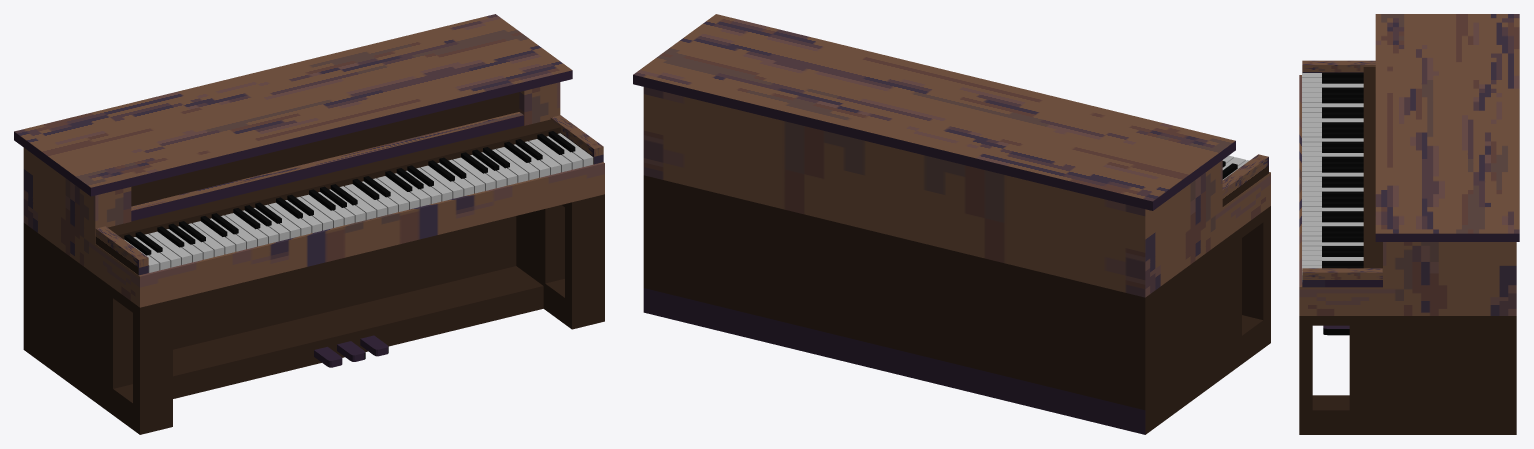
File: PIANO COLOREADO _ 1.fbx
3 renders of one model, left to right at view 1: azimuth 30°, elevation 25°; view 2: azimuth 150°, elevation 25°; view 3: azimuth 270°, elevation 25°, orthographic. The views are drawn at different scales.
Visible parts, largest first — view 1: piano, piano.001; view 2: piano; view 3: piano, piano.001.
Boxes of the visible parts, bbox=[...] form: piano: bbox=[14, 14, 604, 434]; piano.001: bbox=[124, 131, 593, 272]; piano: bbox=[633, 14, 1270, 434]; piano: bbox=[1299, 14, 1519, 434]; piano.001: bbox=[1302, 72, 1363, 281].
Bounding box in the file's own units: 478 × 208 × 202.
Materials: 2 (2 with a texture image).
